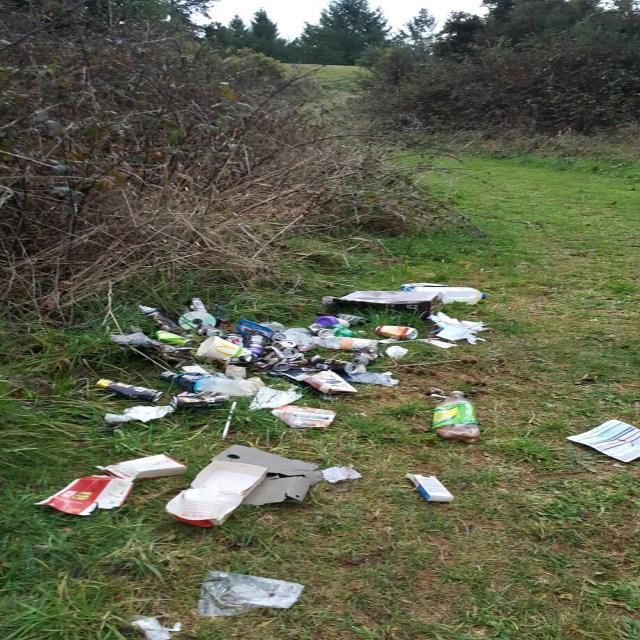dumping: (3, 268, 636, 640)
